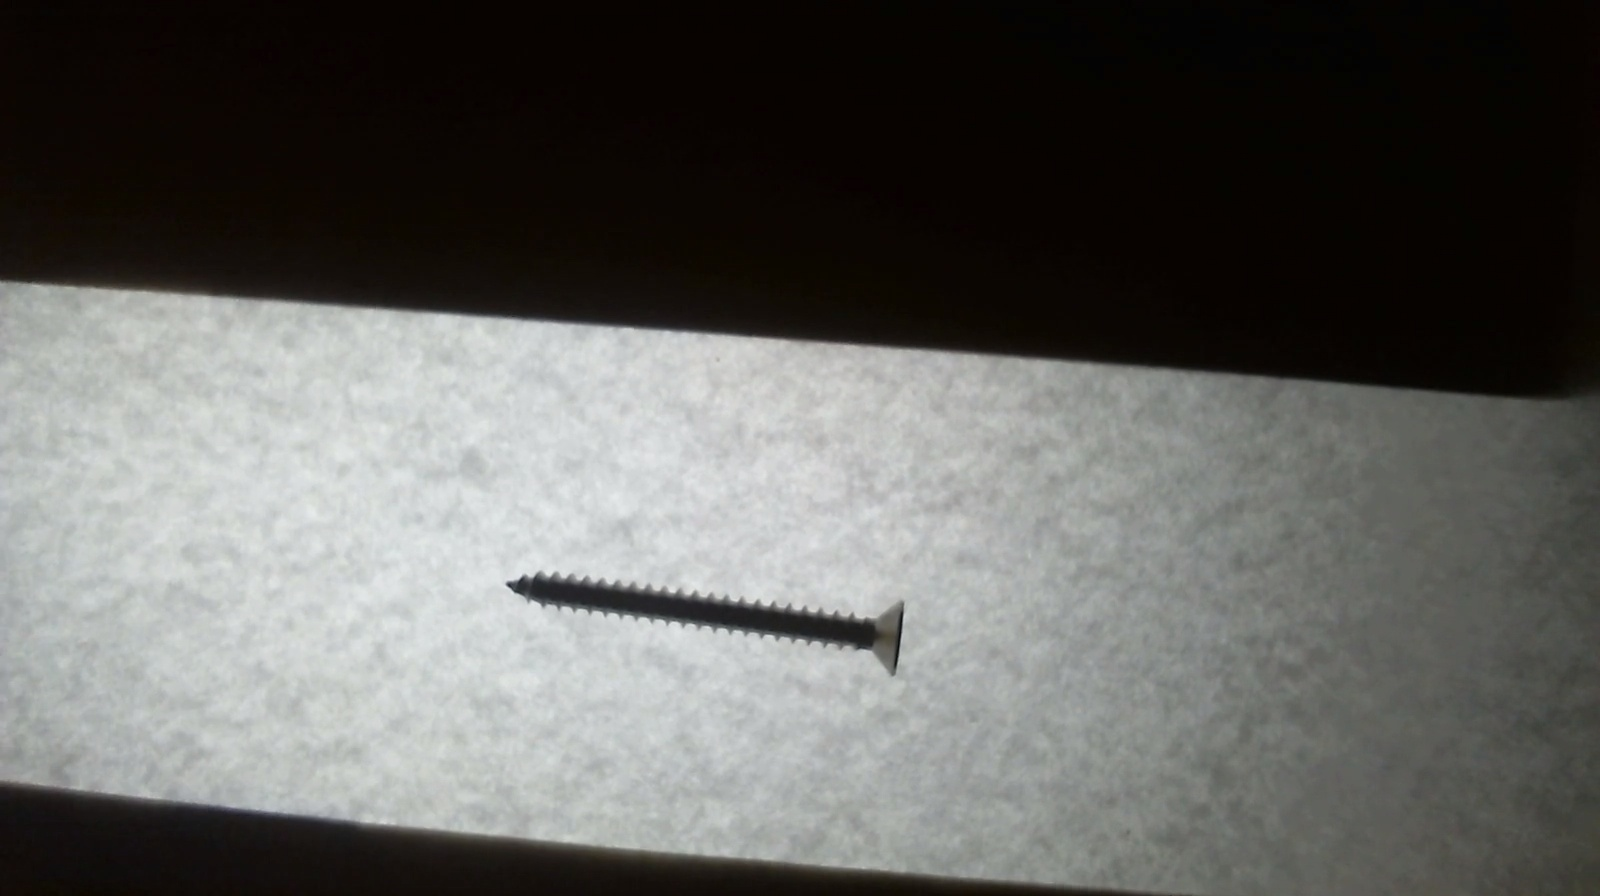S002: (484, 553, 924, 686)
